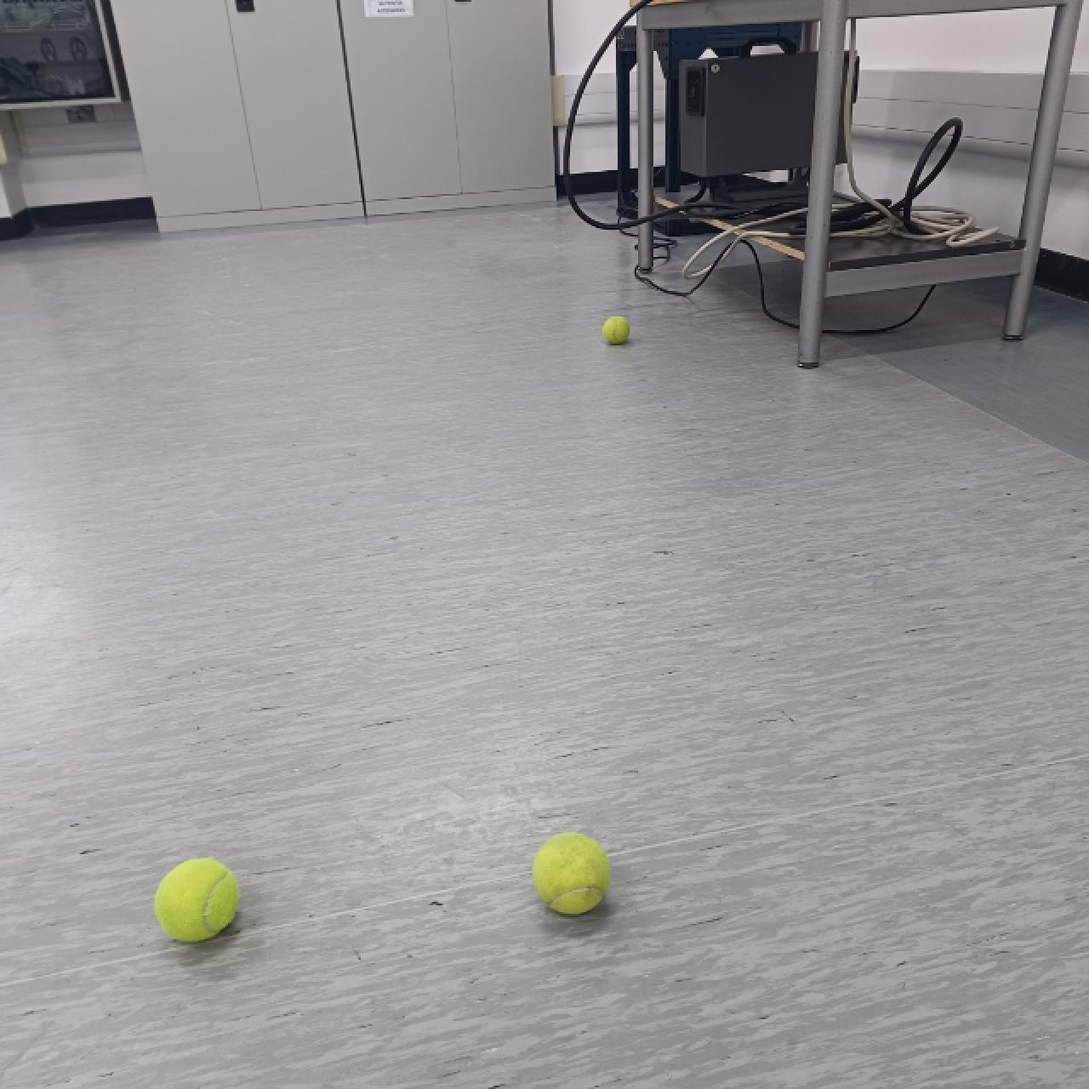tennis-ball: (156, 857, 239, 945), (531, 831, 609, 918), (602, 313, 633, 347)
